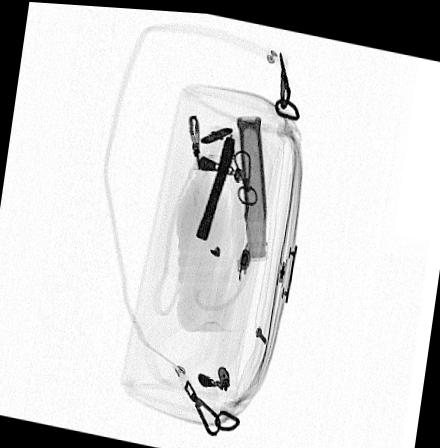Gun: (193, 131, 235, 240)
